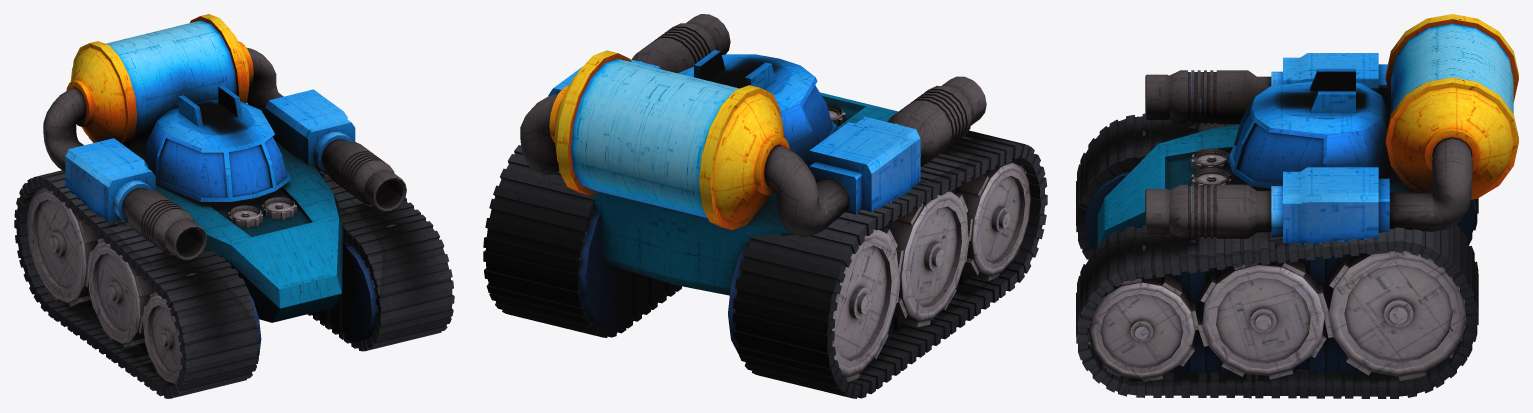
The model's file is PlayerB19.obj.
3 renders of one model, left to right at view 1: azimuth 30°, elevation 25°; view 2: azimuth 150°, elevation 25°; view 3: azimuth 270°, elevation 25°, orthographic. The views are drawn at different scales.
Visible parts, largest first — view 1: Object001, Box042, Object004, Object003, Object002; view 2: Object001, Box042, Object003, Object004, Object002; view 3: Object001, Box042, Object004, Object003, Object002.
Part boxes in pixels (x1,y1,x2,y2): Object001: (43,14,406,356); Box042: (14,170,454,398); Object004: (27,187,101,306); Object003: (87,238,155,347); Object002: (142,292,182,383); Object001: (520,14,986,354); Box042: (483,130,1047,398); Object003: (889,190,968,326); Object004: (832,227,900,381); Object002: (958,158,1030,280); Object001: (1084,14,1518,374); Box042: (1076,113,1478,398); Object004: (1324,250,1466,380); Object003: (1198,260,1328,379); Object002: (1088,274,1199,381).
Size of the model in its own units: 121 by 100 by 147.
Materials: 2 (2 with a texture image).
